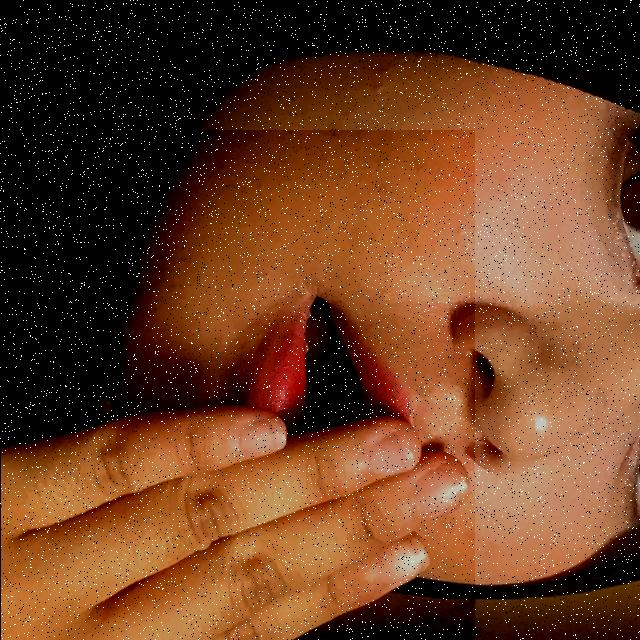ngantuk: (0, 130, 474, 640)
